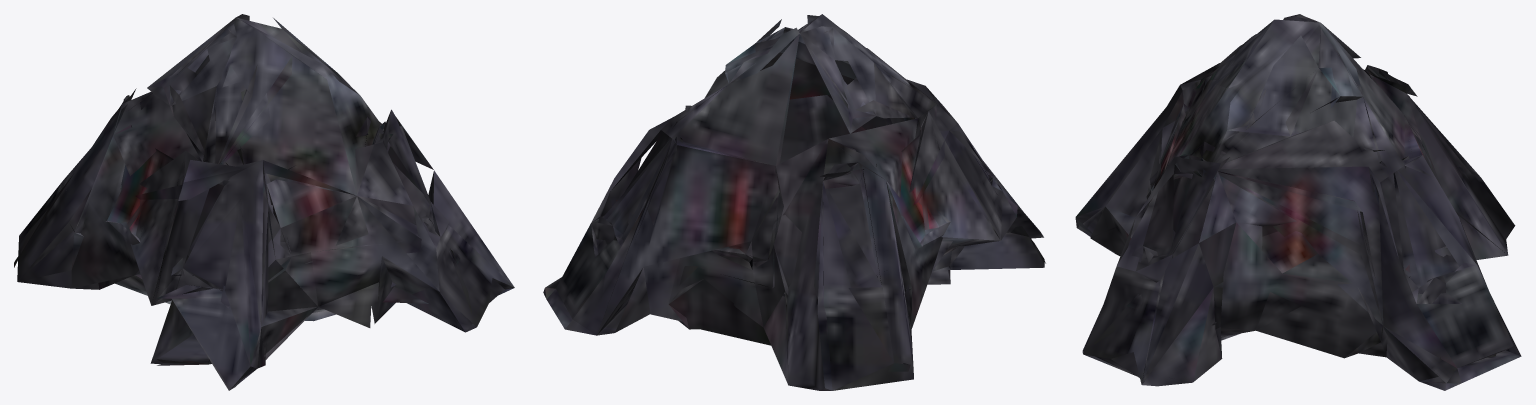
File: enemy_hq_1302990365_lod0.glb
The picture shows the model from 3 angles, left to right: view 1: azimuth 30°, elevation 25°; view 2: azimuth 150°, elevation 25°; view 3: azimuth 270°, elevation 25°; orthographic projection. The views are drawn at different scales.
Bounding box in the file's own units: 17.31 × 12.27 × 17.89.
1 material, 1 textured.
